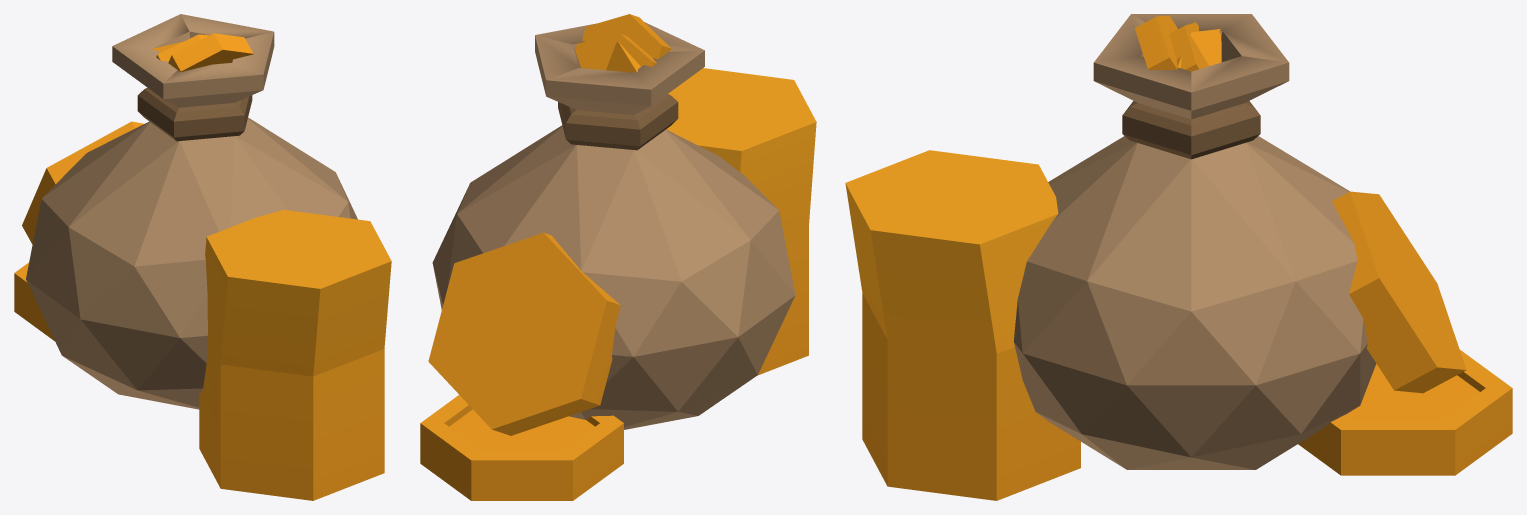
Rendered from moneyBag_withMoney.glb.
3 renders of one model, left to right at view 1: azimuth 30°, elevation 25°; view 2: azimuth 150°, elevation 25°; view 3: azimuth 270°, elevation 25°, orthographic. The views are drawn at different scales.
Visible parts, largest first — view 1: MoneyBag; view 2: MoneyBag; view 3: MoneyBag.
Part boxes in pixels (left/top/right/bottom): MoneyBag: left=14, top=14, right=391, bottom=500; MoneyBag: left=420, top=14, right=816, bottom=500; MoneyBag: left=845, top=14, right=1512, bottom=500.
Bounding box in the file's own units: 0.7087 × 0.8616 × 1.19.
Materials: 7 (7 with a texture image).
